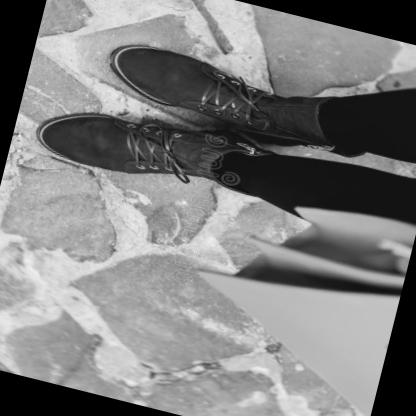ankle: (301, 133, 306, 137), (239, 149, 244, 152)
heel: (288, 144, 290, 146), (224, 133, 226, 135)
left_foot: (101, 38, 332, 154)
pinky: (67, 153, 76, 161), (157, 52, 167, 56)
right_foot: (35, 88, 282, 212)
toe: (132, 74, 145, 83), (53, 123, 62, 131)
